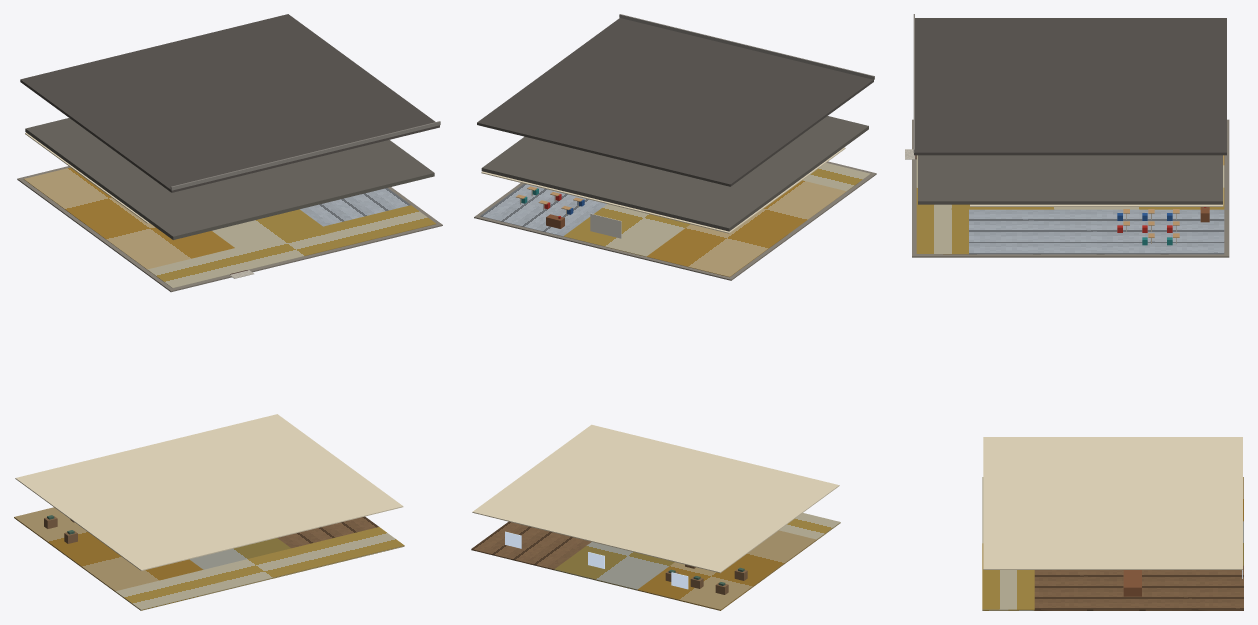
The model's file is structure.glb.
The picture shows the model from 3 angles, left to right: view 1: azimuth 30°, elevation 25°; view 2: azimuth 150°, elevation 25°; view 3: azimuth 270°, elevation 25°; orthographic projection. The views are drawn at different scales.
Parts seen in each view (by area): view 1: Box12, Box45, Box40, Box6, Box41, Box8, Box2, Box42, Box1, Box10, Box9, Box7 (+2 smaller); view 2: Box12, Box45, Box40, Box8, Box6, Box42, Box9, Box10, Box44, Box43, Box1, Box7 (+4 smaller); view 3: Box12, Box45, Box40, Box10, Box44, Box6, Box2, Box1, Box41, Box9, Box11, Box67.
Boxes of the visible parts, x1,y1,x2,y2 form: Box12: (20, 14, 412, 172); Box45: (15, 414, 403, 570); Box40: (25, 118, 434, 239); Box6: (144, 105, 439, 192); Box41: (115, 527, 404, 610); Box8: (24, 167, 234, 269); Box2: (147, 205, 435, 288); Box42: (14, 507, 203, 591); Box1: (17, 166, 442, 292); Box10: (300, 188, 410, 226); Box9: (212, 209, 322, 247); Box7: (170, 121, 440, 190); Box12: (477, 37, 848, 186); Box45: (472, 424, 839, 573); Box40: (481, 116, 868, 231); Box8: (646, 180, 846, 277); Box6: (594, 18, 873, 100); Box42: (637, 530, 816, 610); Box9: (563, 204, 689, 256); Box10: (480, 184, 606, 236); Box44: (471, 521, 591, 570); Box43: (554, 542, 674, 590); Box1: (474, 161, 876, 280); Box7: (619, 14, 874, 79); Box12: (969, 18, 1226, 155); Box45: (983, 437, 1242, 569); Box40: (918, 155, 1222, 204); Box10: (969, 209, 1224, 254); Box44: (1034, 565, 1243, 610); Box6: (914, 18, 971, 155); Box2: (916, 155, 968, 254); Box1: (912, 119, 1229, 257); Box41: (982, 477, 1034, 610); Box9: (969, 165, 1224, 209); Box11: (970, 155, 1223, 206); Box67: (1123, 570, 1141, 596).
Bounding box in the file's own units: 24.74 × 39.02 × 25.9.
25 materials, 7 textured.
